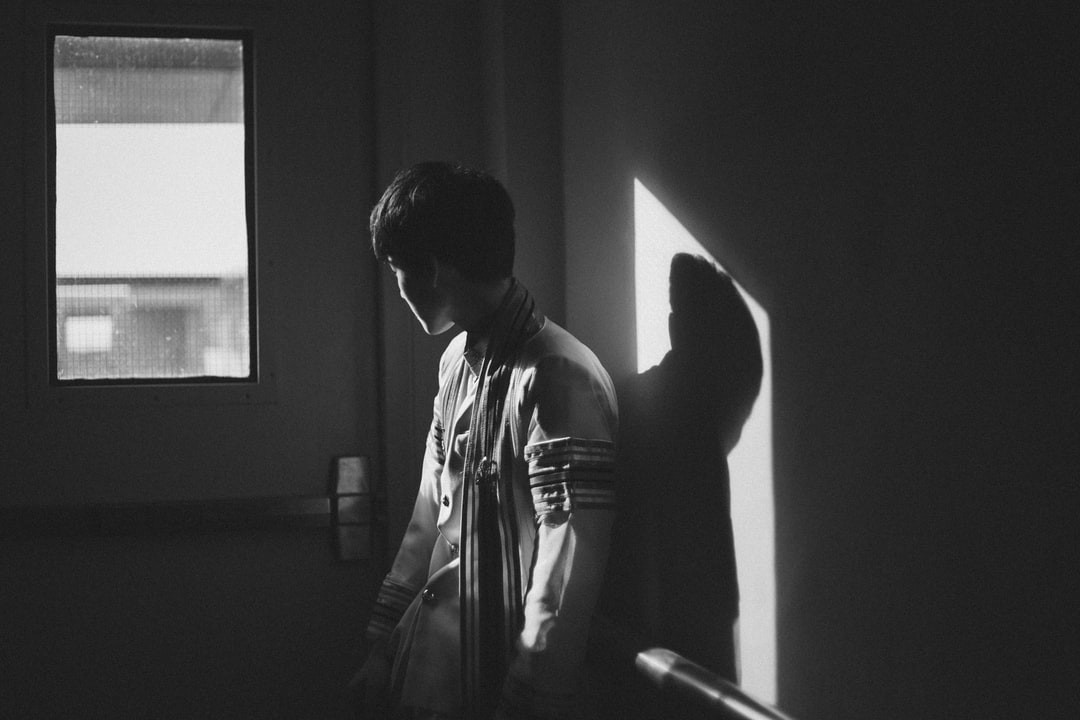BOY: (365, 169, 519, 329)
